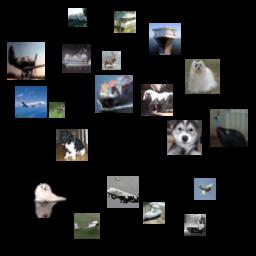airplane: (7, 42, 45, 80), (107, 176, 139, 208), (15, 86, 47, 118), (74, 213, 100, 239), (194, 178, 216, 200)
bird: (210, 109, 248, 147), (49, 102, 65, 118)
deer: (102, 51, 121, 70)
dog: (32, 183, 67, 218), (185, 59, 220, 94), (167, 120, 202, 155), (56, 129, 88, 161)
ship: (95, 75, 133, 113), (149, 23, 181, 55), (62, 44, 91, 73), (114, 11, 136, 33), (143, 202, 165, 224)
truck: (184, 214, 206, 236), (68, 8, 87, 27)
